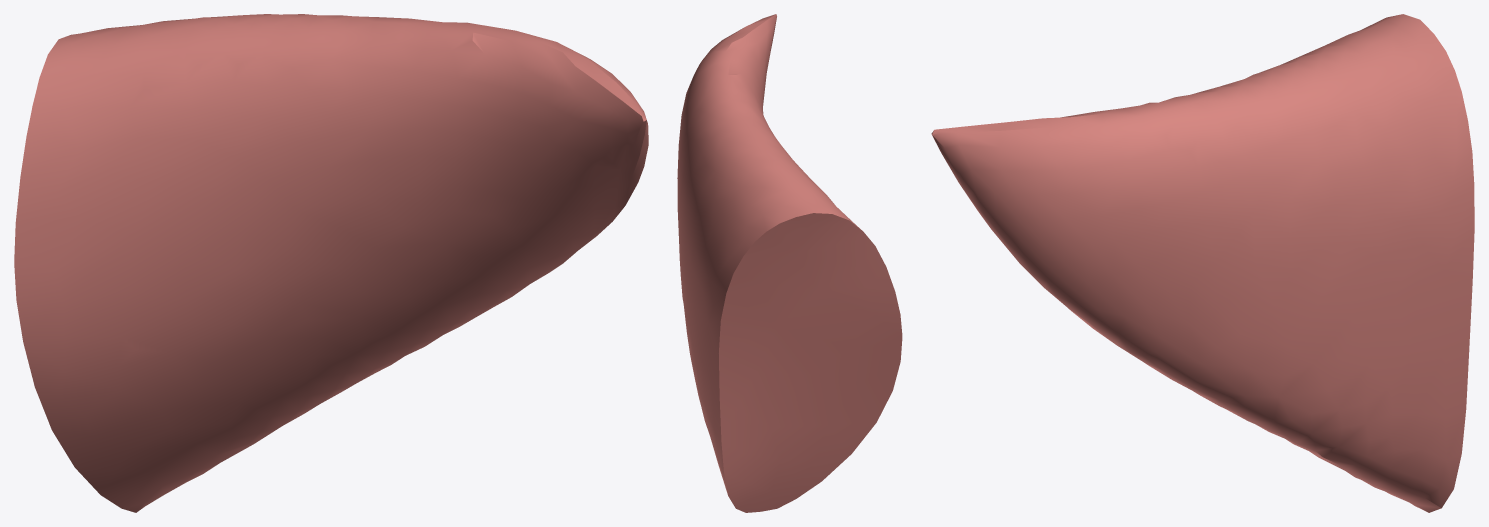
Rendered from fma298593_mm1781m.glb.
3 renders of one model, left to right at view 1: azimuth 30°, elevation 25°; view 2: azimuth 150°, elevation 25°; view 3: azimuth 270°, elevation 25°, orthographic. The views are drawn at different scales.
Parts seen in each view (by area): view 1: FMA298593_MM1781M; view 2: FMA298593_MM1781M; view 3: FMA298593_MM1781M.
Part boxes in pixels (x1,y1,x2,y2): FMA298593_MM1781M: (14, 14, 648, 512); FMA298593_MM1781M: (677, 14, 902, 512); FMA298593_MM1781M: (931, 14, 1474, 512).
Bounding box in the file's own units: 0.0183 × 0.0203 × 0.0202.
